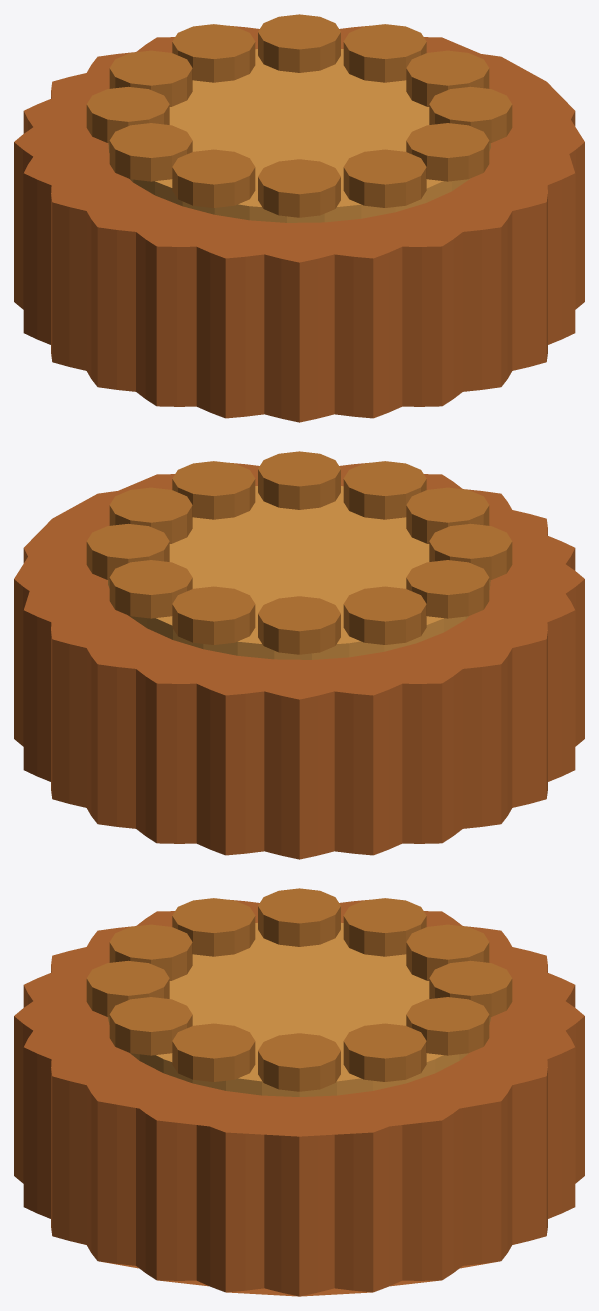
File: scendance-plan-cn-mooncake.glb
The picture shows the model from 3 angles, top to bottom: view 1: azimuth 30°, elevation 25°; view 2: azimuth 150°, elevation 25°; view 3: azimuth 270°, elevation 25°; orthographic projection.
Bounding box in the file's own units: 0.11 × 0.042 × 0.11.
